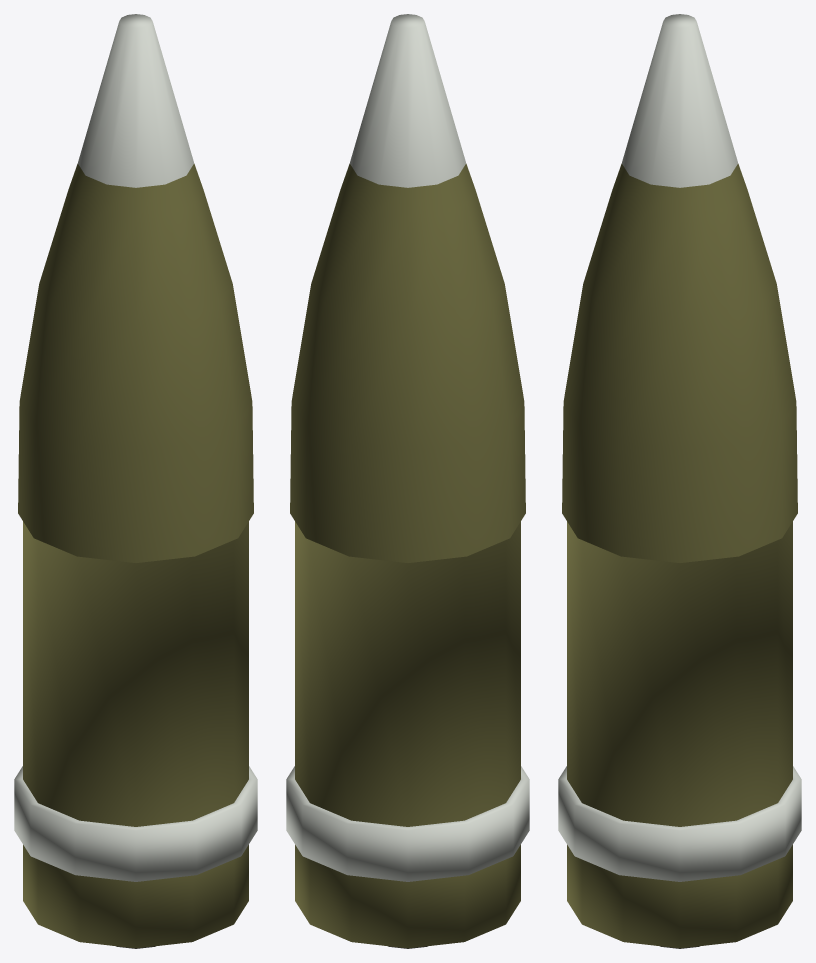
3 renders of one model, left to right at view 1: azimuth 30°, elevation 25°; view 2: azimuth 150°, elevation 25°; view 3: azimuth 270°, elevation 25°, orthographic.
Visible parts, largest first — view 1: shell; view 2: shell; view 3: shell.
Part boxes in pixels (x1,y1,x2,y2): shell: [14, 14, 257, 948]; shell: [286, 14, 529, 948]; shell: [558, 14, 801, 948].
Size of the model in its own units: 0.078 by 0.3224 by 0.078.
